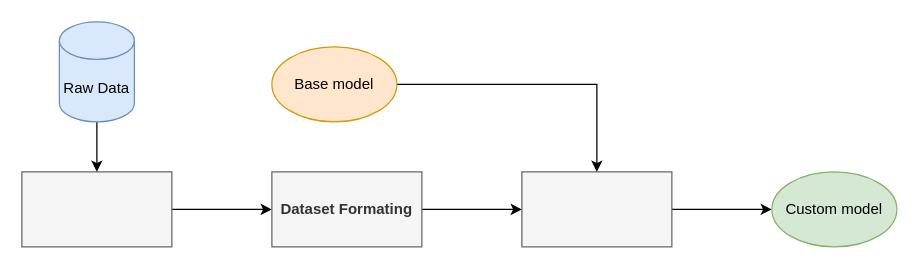
Some shapes in this 919 by 269 pixel diagram are drawn without their labels. Here are the shapes that lost their labels. From the top down, the centre of each, then its label:
At (96,209): "Instruction-Dataset Preparation".
At (596,209): "SFT technique".
